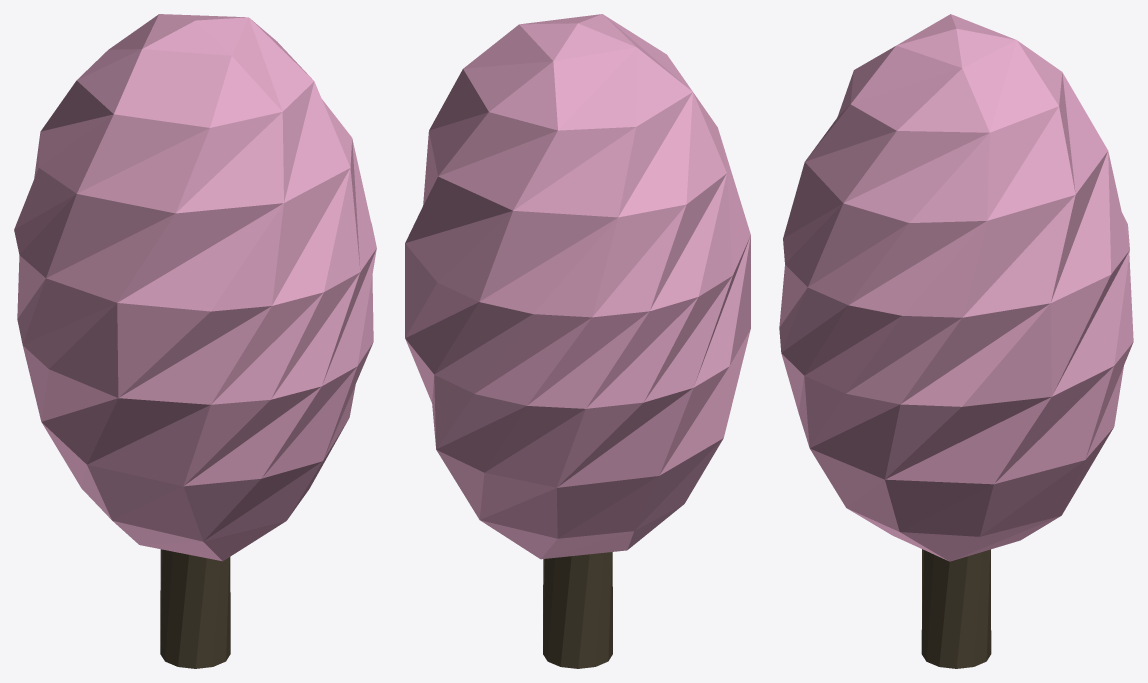
File: spring_twisted3.dae
3 views of the same model, side by side, from view 1: azimuth 30°, elevation 25°; view 2: azimuth 150°, elevation 25°; view 3: azimuth 270°, elevation 25° (orthographic).
Visible parts, largest first — view 1: Kugel, Zylinder; view 2: Kugel, Zylinder; view 3: Kugel, Zylinder.
Part boxes in pixels (x1,y1,x2,y2): Kugel: [14, 14, 376, 561]; Zylinder: [160, 549, 230, 668]; Kugel: [405, 14, 750, 559]; Zylinder: [543, 552, 612, 668]; Kugel: [779, 14, 1133, 561]; Zylinder: [921, 549, 991, 668].
Size of the model in its own units: 52.12 by 103 by 53.09.
